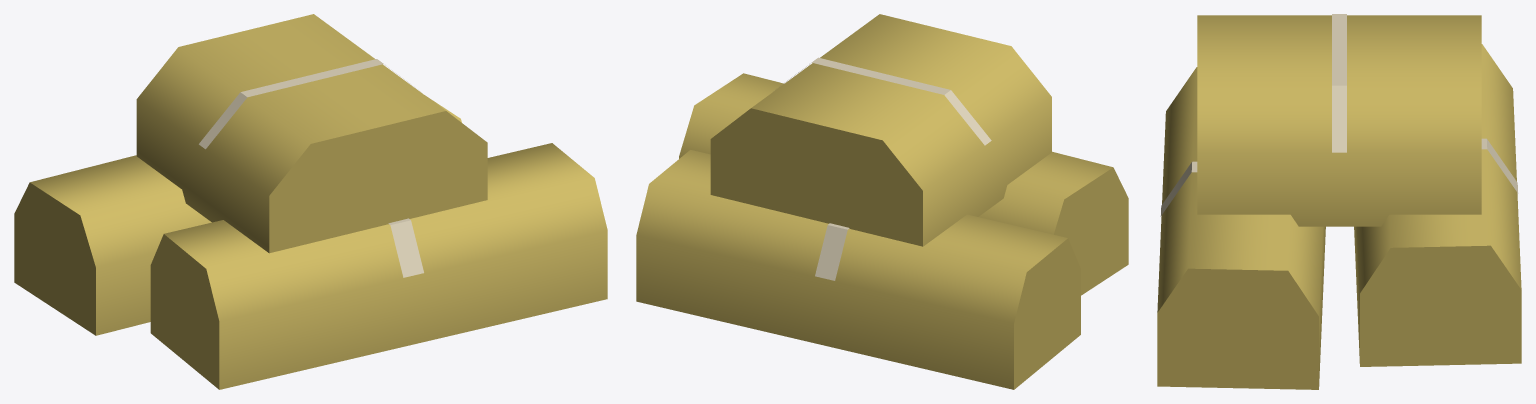
Rendered from food_hay_c.obj.
3 views of the same model, side by side, from view 1: azimuth 30°, elevation 25°; view 2: azimuth 150°, elevation 25°; view 3: azimuth 270°, elevation 25° (orthographic). The views are drawn at different scales.
Visible parts, largest first — view 1: bale_2, bale_3, bale_1, tie_3, tie_2; view 2: bale_1, bale_3, bale_2, tie_3, tie_1; view 3: bale_3, bale_2, bale_1, tie_3, tie_1, tie_2.
Boxes of the visible parts, <box> form: bale_2: <box>150,143,607,389</box>; bale_3: <box>136,14,487,253</box>; bale_1: <box>14,96,461,335</box>; tie_3: <box>199,59,409,149</box>; tie_2: <box>388,218,423,277</box>; bale_1: <box>636,150,1080,389</box>; bale_3: <box>710,14,1051,246</box>; bale_2: <box>679,73,1128,295</box>; tie_3: <box>786,57,991,145</box>; tie_1: <box>815,223,849,280</box>; bale_3: <box>1197,15,1481,226</box>; bale_2: <box>1157,67,1325,389</box>; bale_1: <box>1354,44,1521,366</box>; tie_3: <box>1332,14,1346,152</box>; tie_1: <box>1481,138,1518,193</box>; tie_2: <box>1160,161,1197,216</box>.
Bounding box in the file's own units: 0.8 × 0.37 × 0.54.
